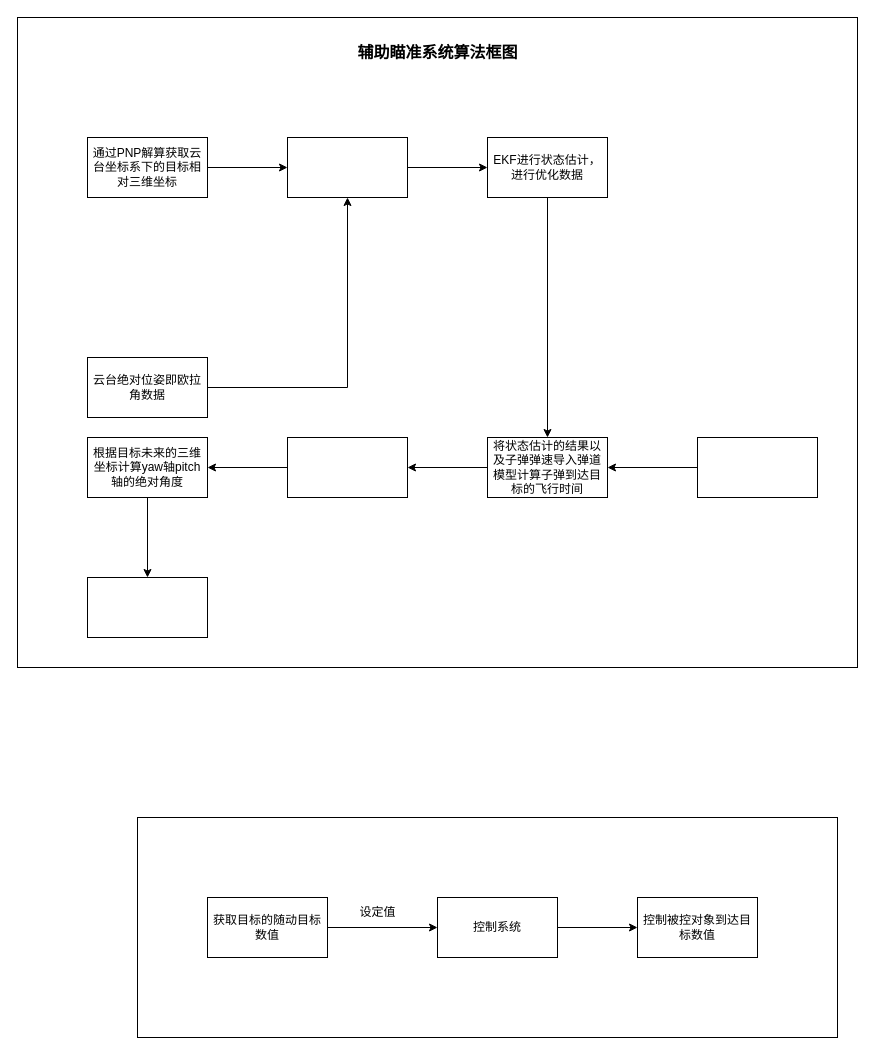
The diagram is 875 pixels wide and 1055 high, and some of its shapes have lost their labels. The shapes that lost their labels are listed below. From the top down, each one's centre as x and y in pixels, then its label:
At (x=347, y=167): "将云台坐标系下的相对三维坐标转化为惯性系下的三维绝对坐标".
At (x=347, y=467): "依据子弹飞行时间以及目标运动学模型预测子弹到达目标时目标的未来位置".
At (x=757, y=467): "子弹弹速".
At (x=147, y=607): "将绝对角度发送给云台控制任务，控制云台转动".
